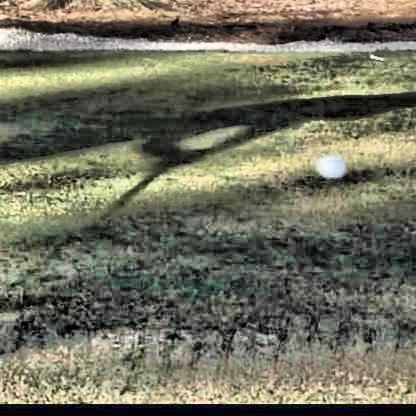golfball: (314, 153, 343, 177)
